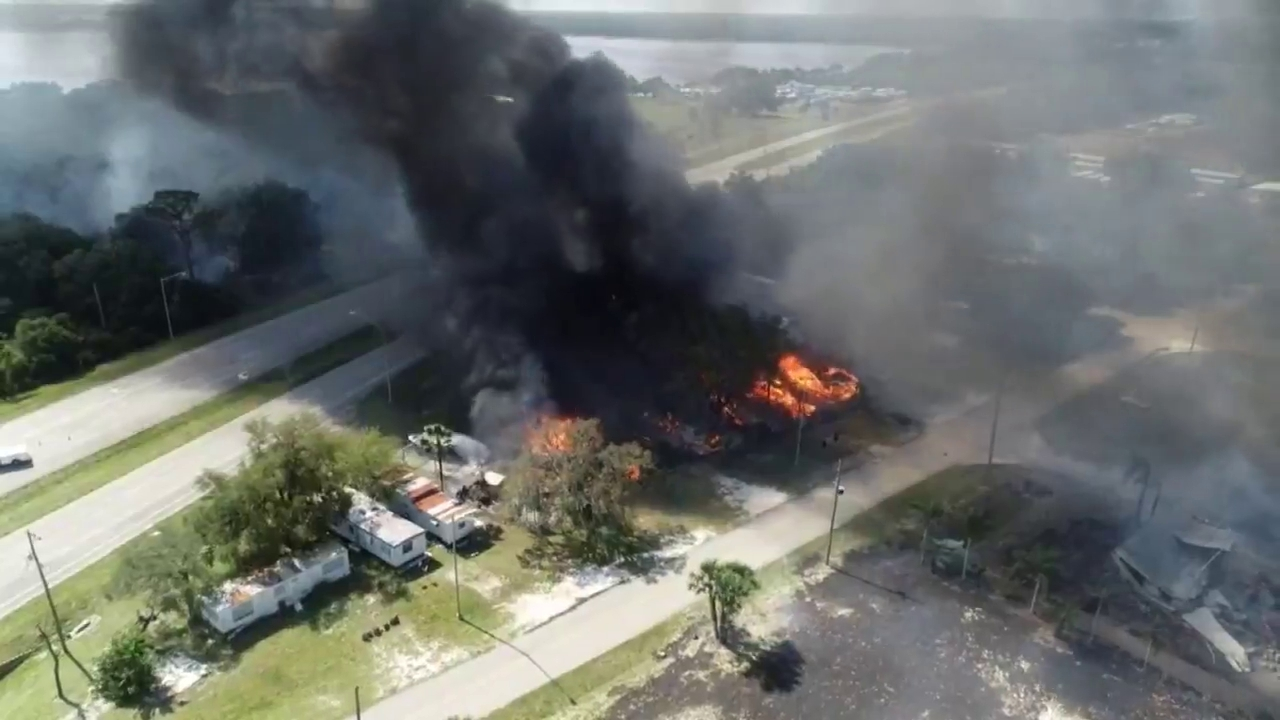forest_fire: (747, 354, 858, 416), (528, 416, 595, 455), (623, 461, 642, 480)
